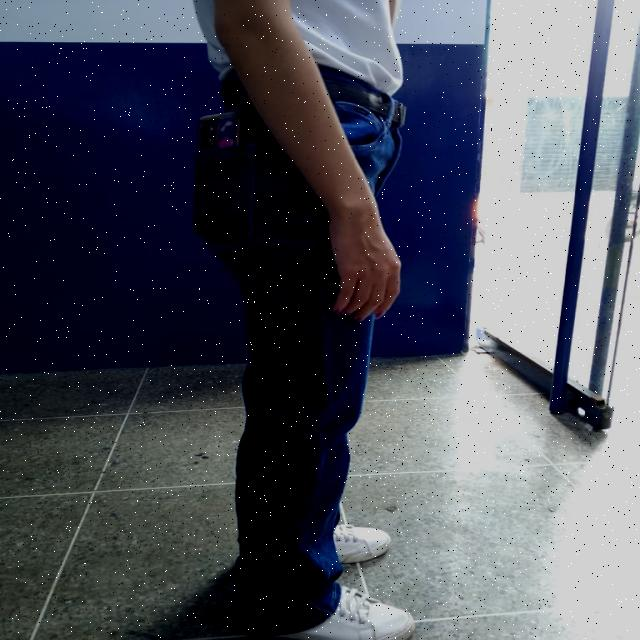pantalon_oscuro: (200, 93, 402, 637)
